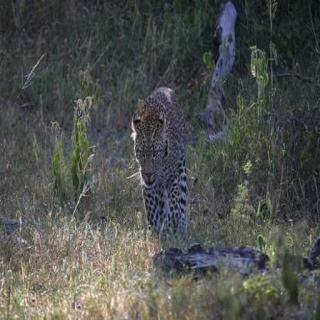Leopard: (114, 70, 220, 246)
